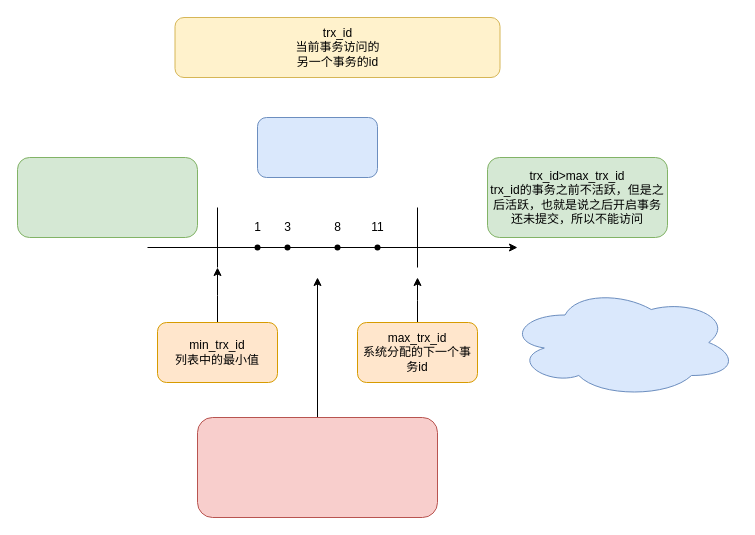
The diagram is 755 pixels wide and 535 high, and some of its shapes have lost their labels. Here are the shapes that lost their labels. From the top down, the box of each, then its label:
(256, 116, 378, 178): m_ids 当前活跃的 事务id列表
(16, 156, 198, 238): trx_id<min_trx_id trx_id比当前列表的最小值还要小 说明该trx_id的事务已提交 当前事务可访问该trx_id的事务
(506, 286, 738, 398): 不是最大值！！ 当前最大11，但是事务11可能提交。 是系统下一个分配的id （比列表中的肯定大）
(196, 416, 438, 518): trx_id处于列表值之间，需判断trx_id的值是否在列表中（列表的值不连续，是散点） 若在其中则代表活跃，不可访问
